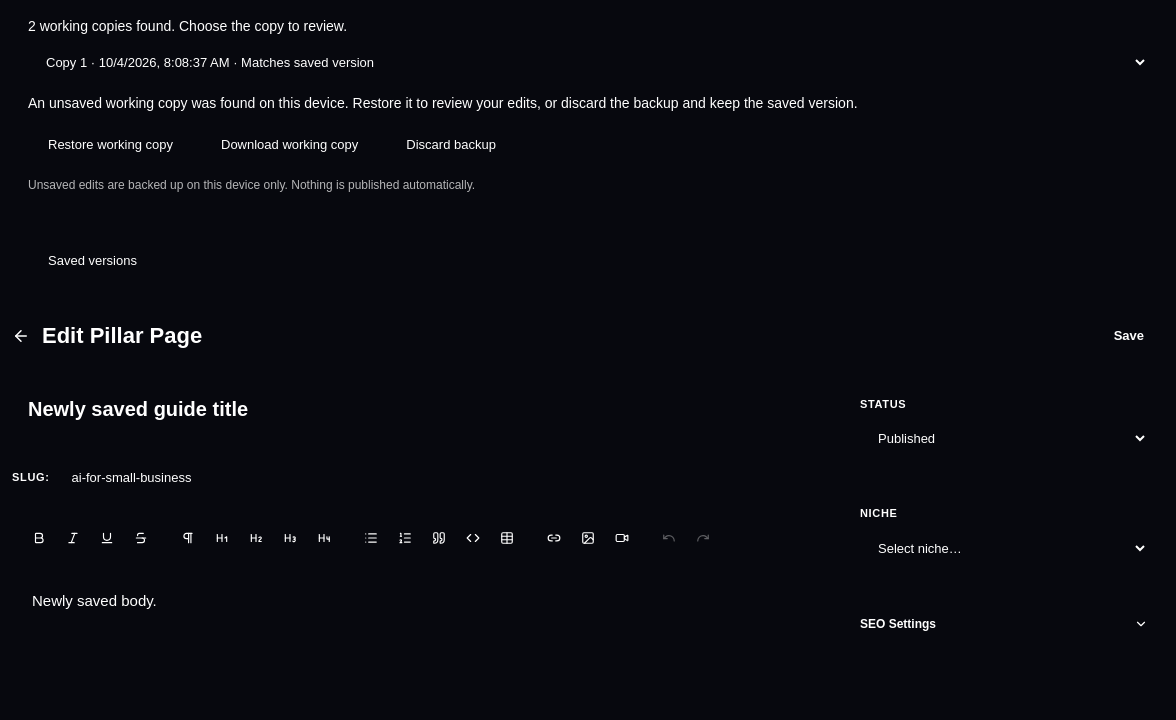
Test: topic guide editor › rebases crash recovery after explicitly loading the latest saved guide
Earlier steps of the test are not shown.
Click the button "Restore working copy" at (110, 145), box [28,125,193,164]
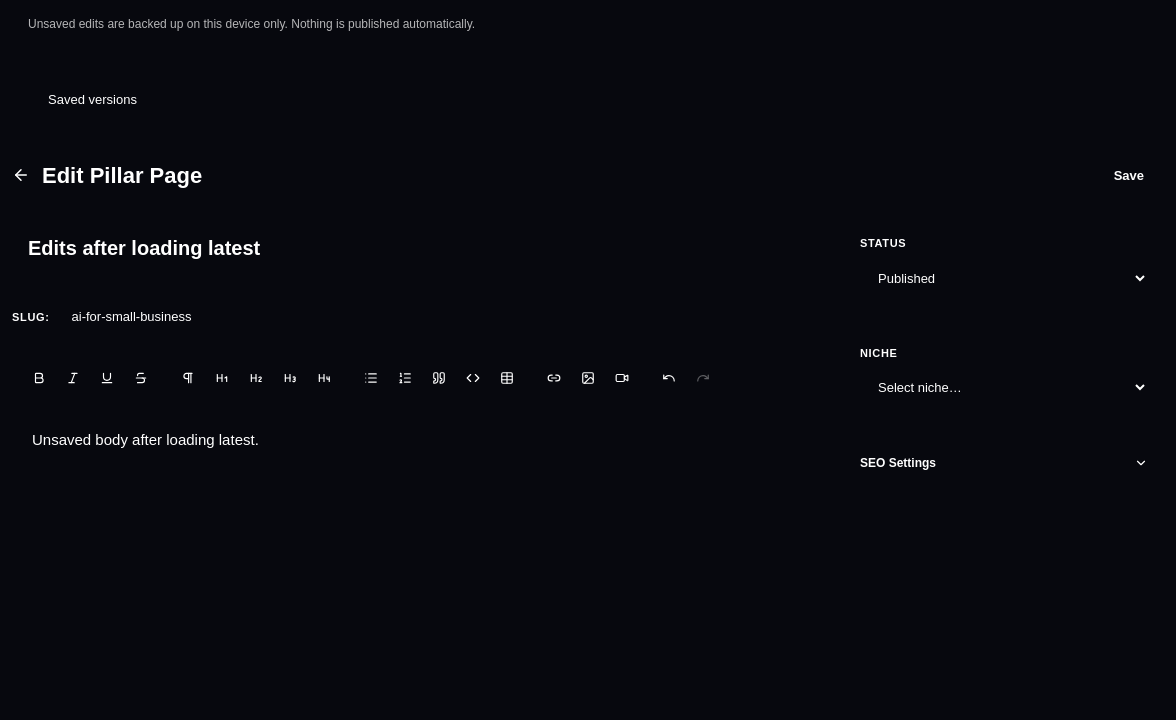
Now the 1st field showing "Edits after loading latest" is shown, box [12,219,820,277]
Now the text box labelled "Unsaved body after loading latest." is shown, box [32,431,259,448]
